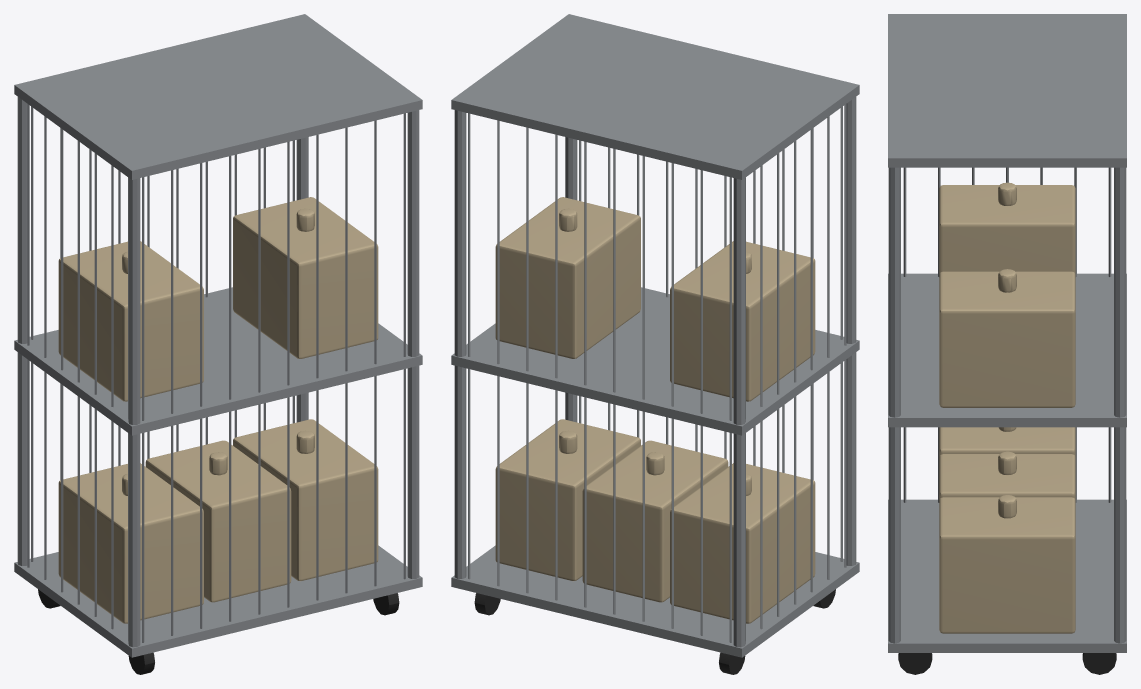
The model's file is prop_cash_trolley.glb.
3 renders of one model, left to right at view 1: azimuth 30°, elevation 25°; view 2: azimuth 150°, elevation 25°; view 3: azimuth 270°, elevation 25°, orthographic.
Parts seen in each view (by area): view 1: Trolley; view 2: Trolley; view 3: Trolley.
Boxes of the visible parts, box(x1,y1,x2,y2) form: Trolley: box(14, 14, 422, 674); Trolley: box(451, 14, 859, 674); Trolley: box(888, 14, 1126, 674).
Size of what is drawn, in the model's own units: 1 by 1.7 by 0.7.
